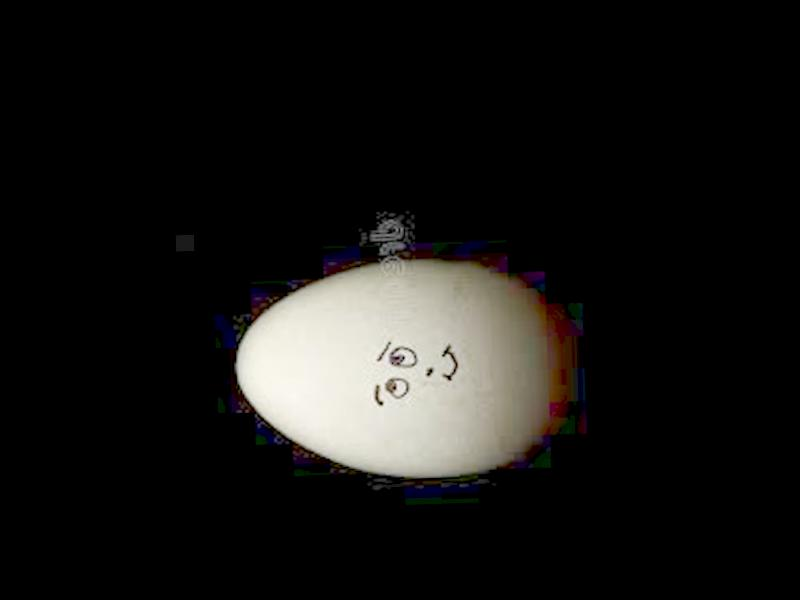Eggs: (232, 257, 560, 482)
